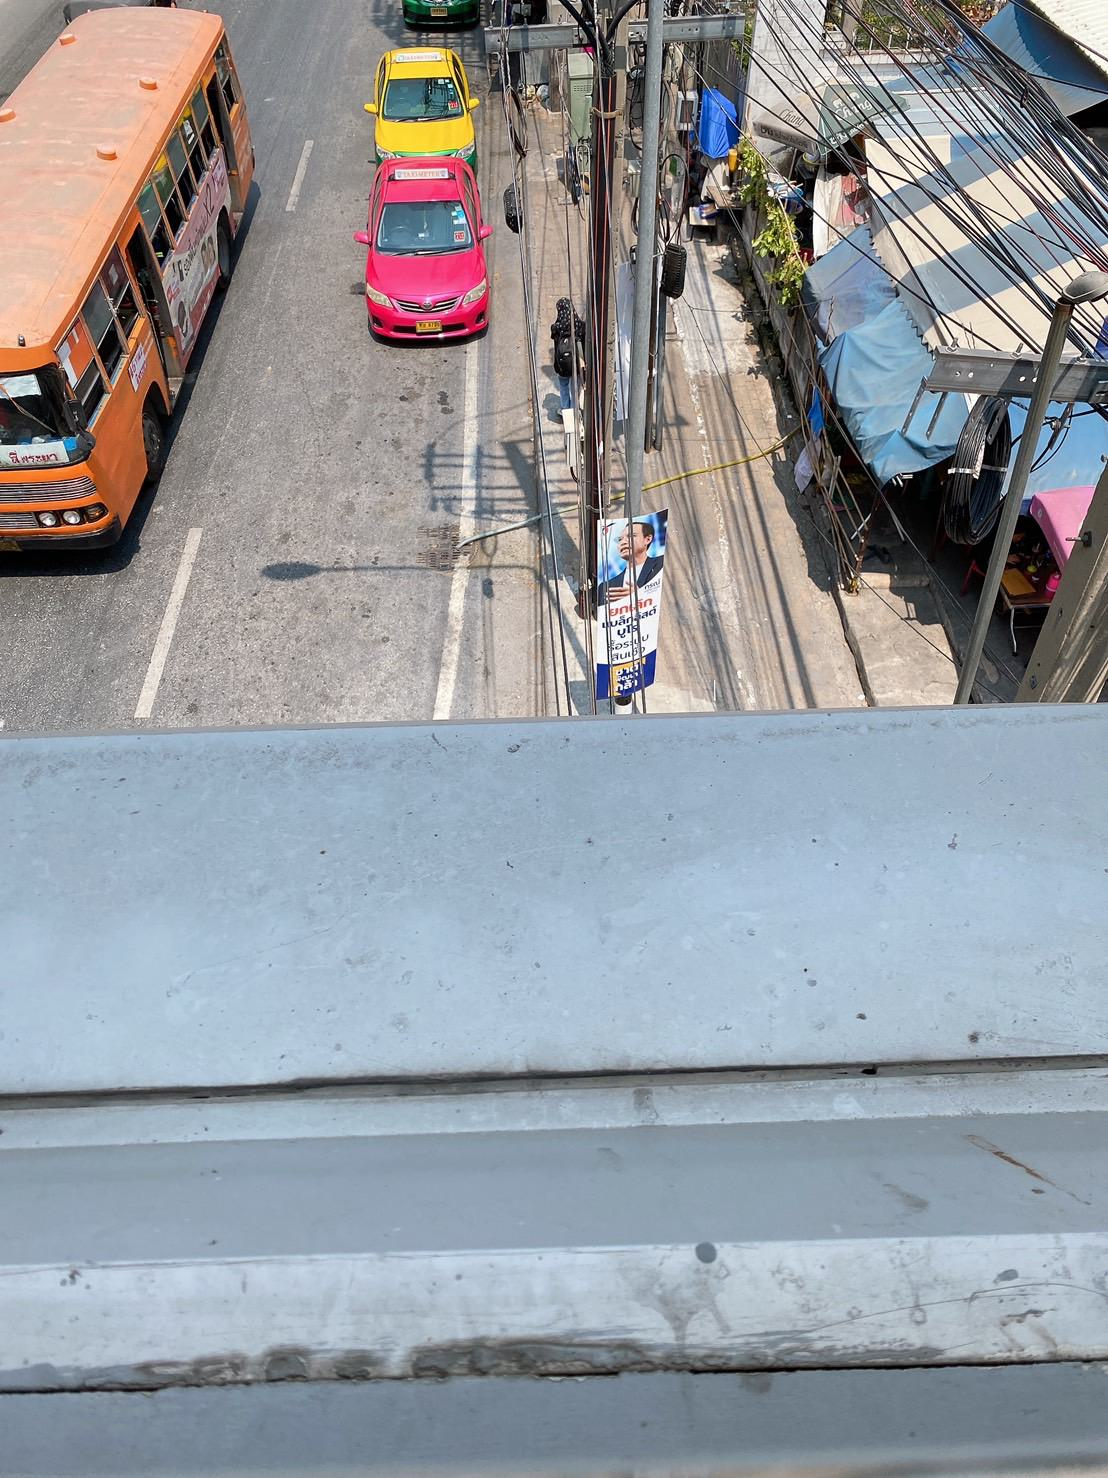Banner: (596, 514, 656, 705)
